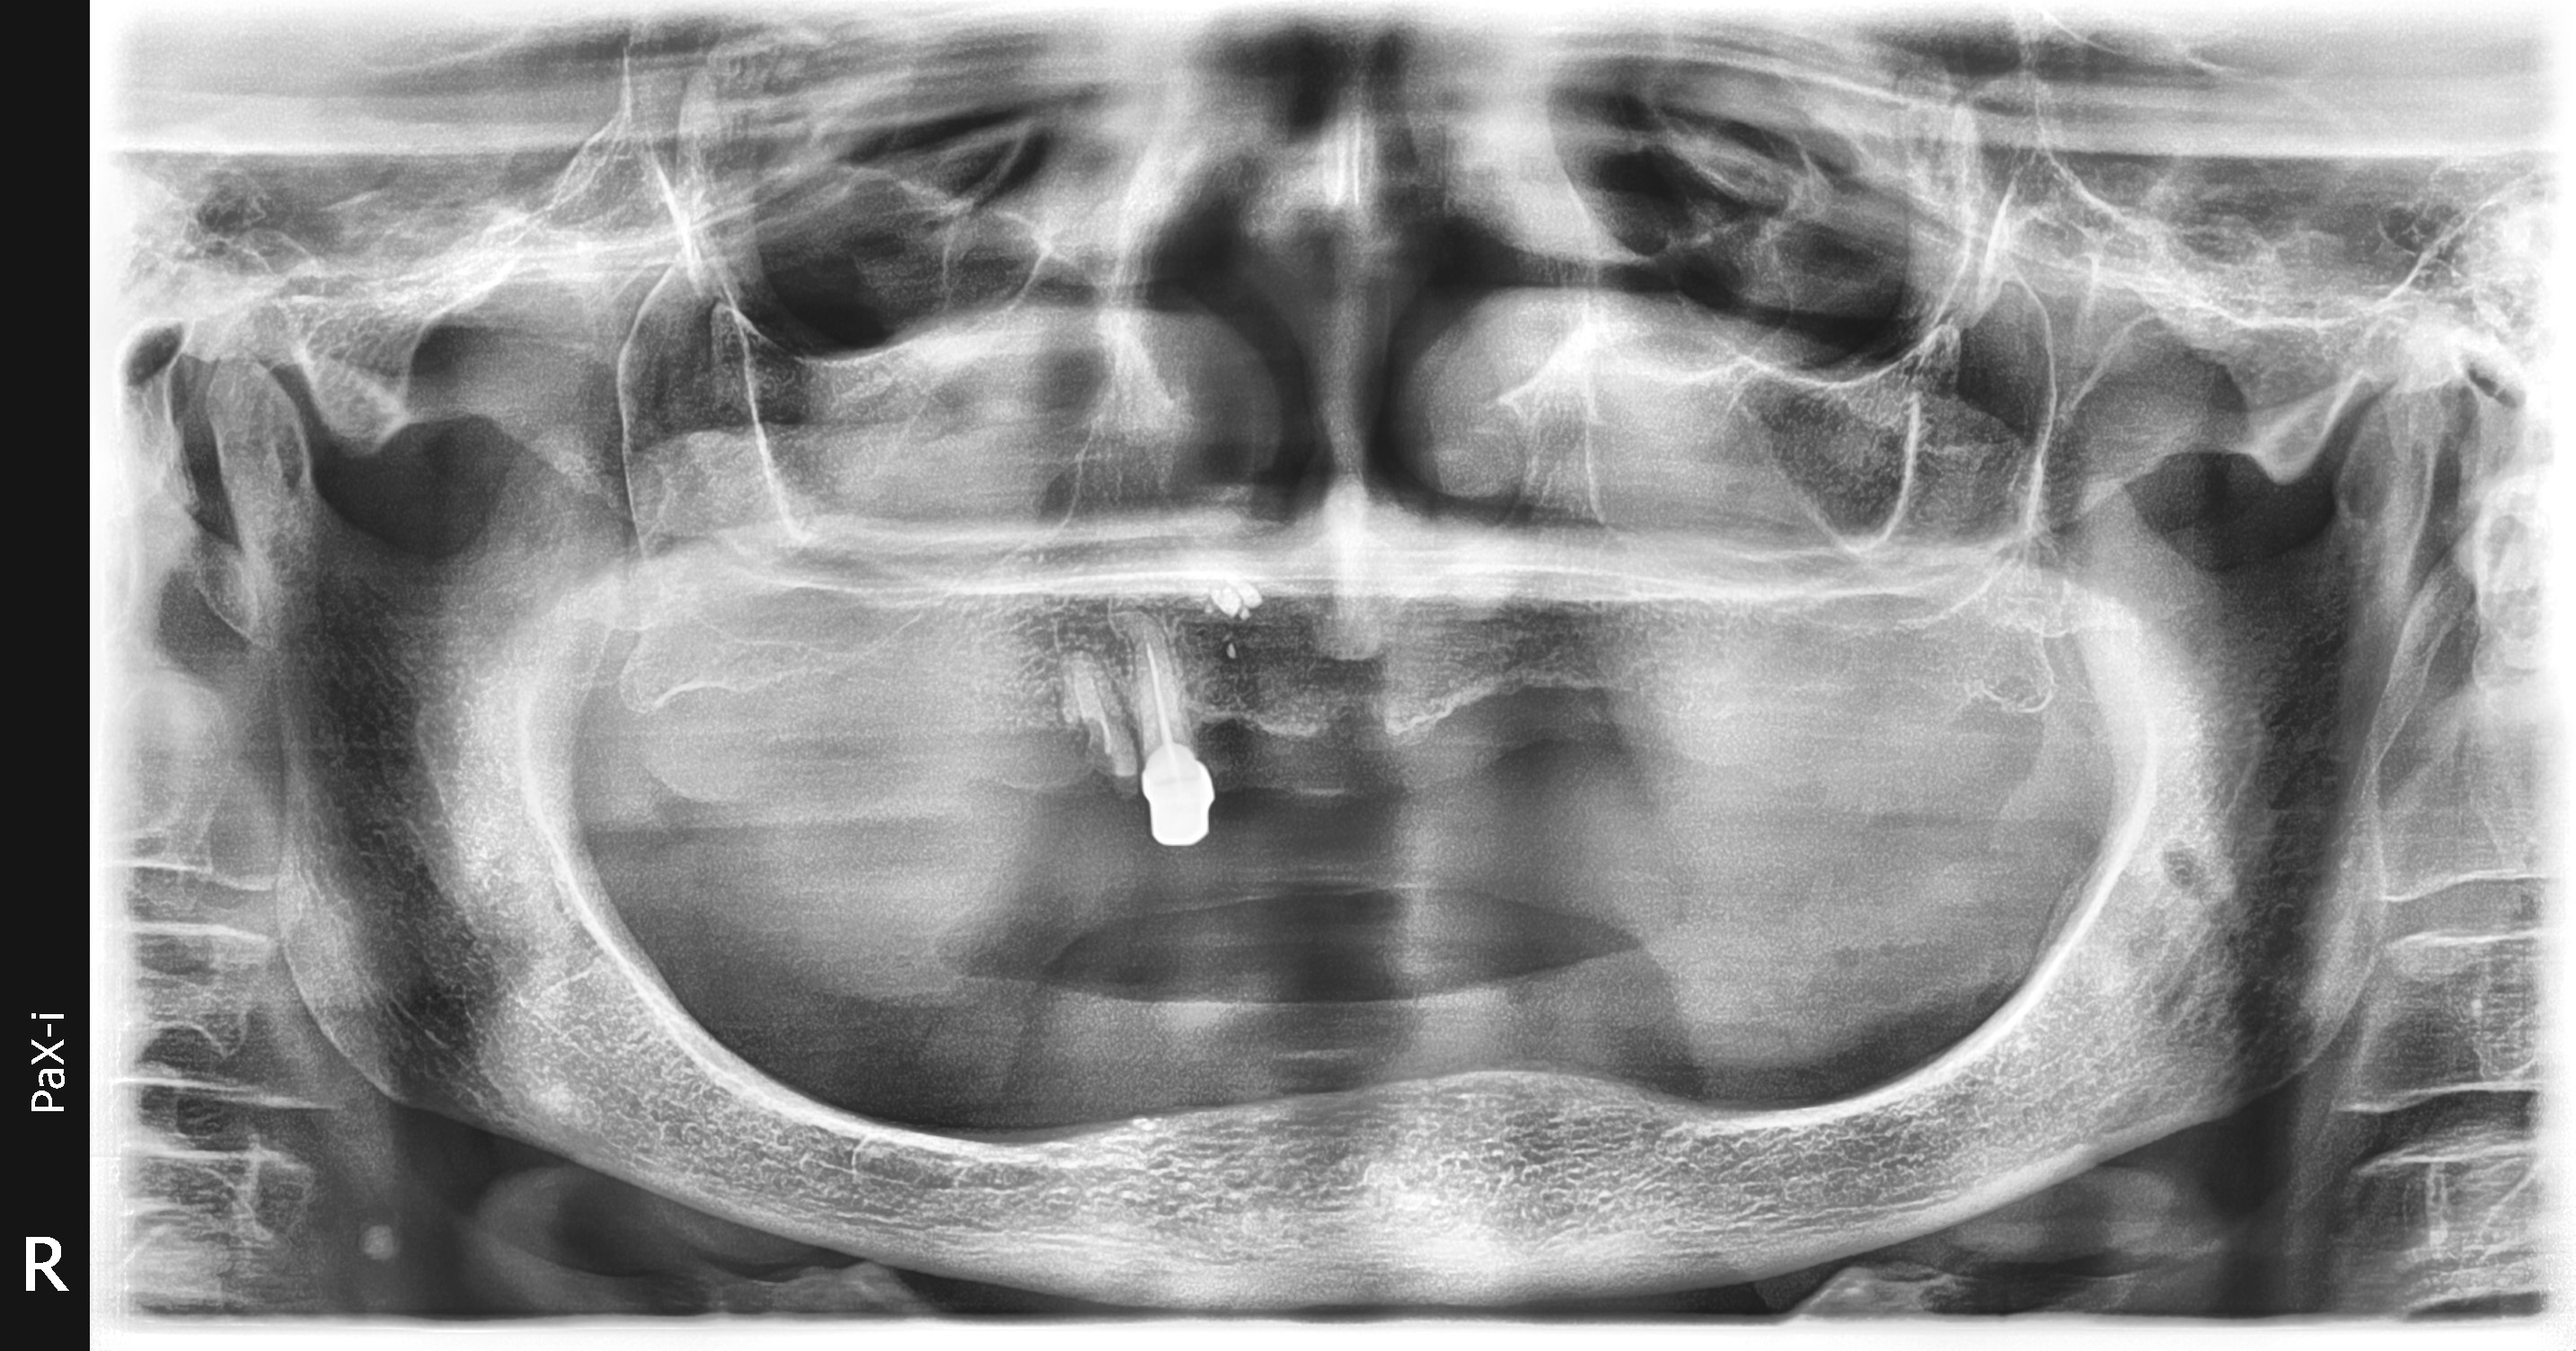END: (550, 237, 1729, 971)
PRR: (499, 305, 1733, 1172)
ROT: (462, 232, 1603, 1034)
